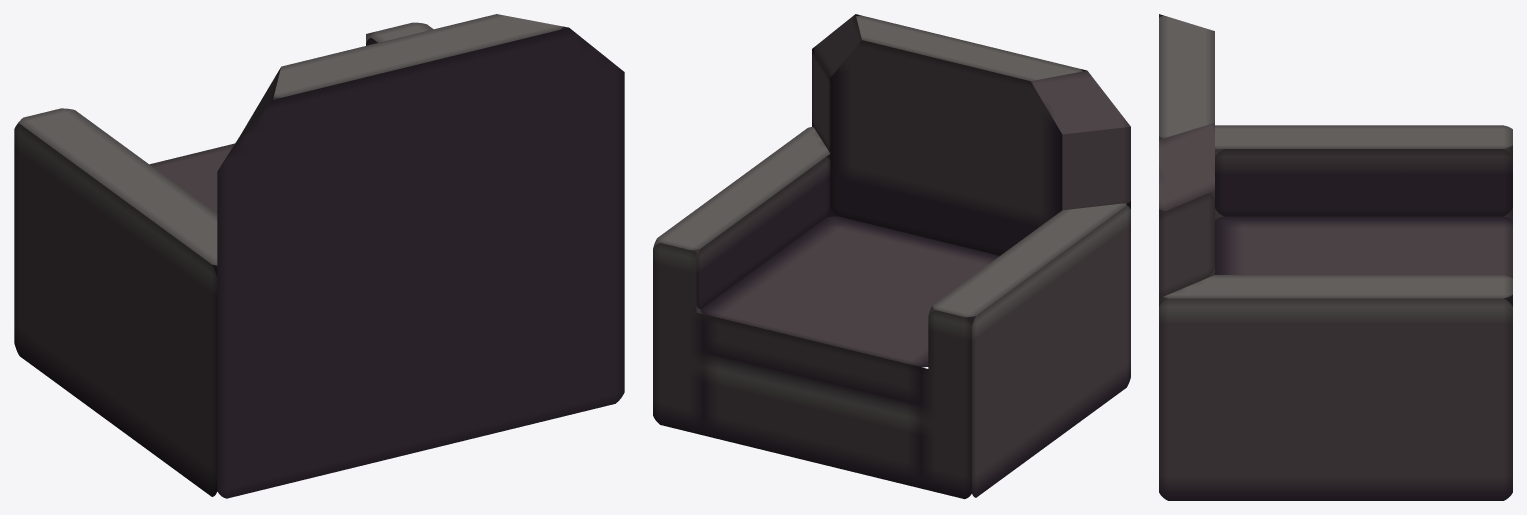
Rendered from couch.fbx.
3 views of the same model, side by side, from view 1: azimuth 30°, elevation 25°; view 2: azimuth 150°, elevation 25°; view 3: azimuth 270°, elevation 25° (orthographic). The views are drawn at different scales.
Visible parts, largest first — view 1: couch; view 2: couch; view 3: couch.
Boxes of the visible parts, <box> form: couch: <box>14,14,624,498</box>; couch: <box>653,14,1130,499</box>; couch: <box>1159,14,1512,500</box>.
Size of the model in its own units: 206 by 188 by 178.
